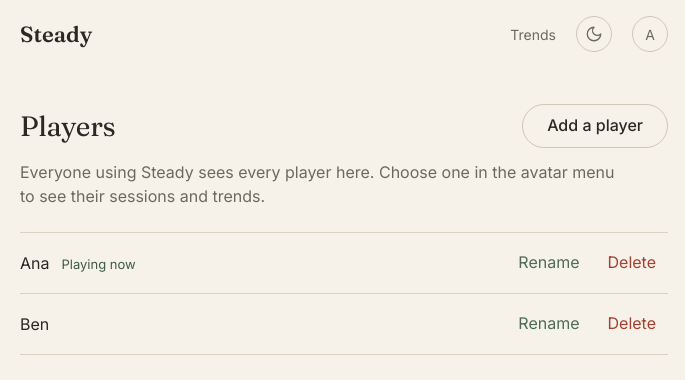
Player names on the server (Spec 013) › renames on the server with that player’s own token, and shows the server’s name
The width and height of the screenshot is (685, 380).
Click the button with aria-label "Rename Ben" at (549, 324), box [506,302,592,346]
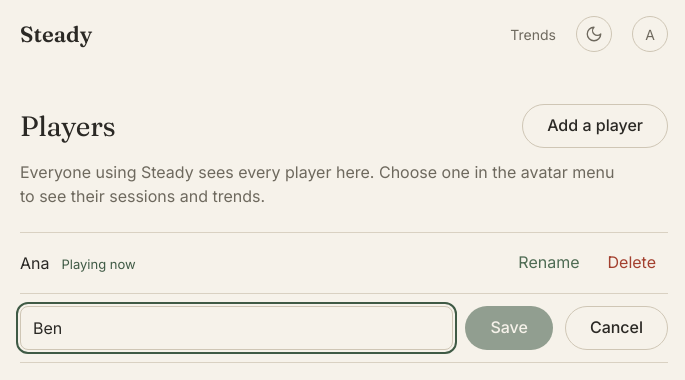
Replace the text in the field named "name" with "  Benji " at (237, 328), box [20,306,453,350]
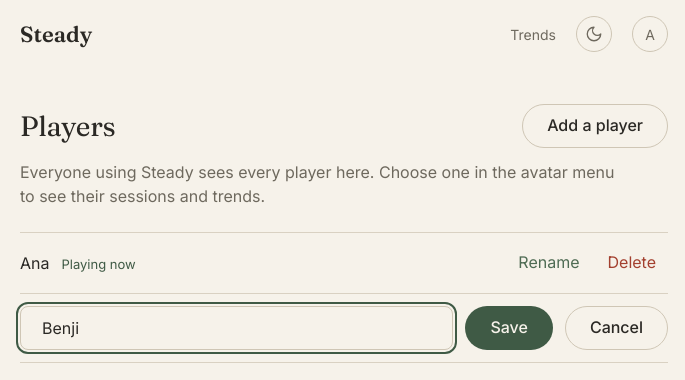
Click the button "Save" at (509, 328), box [465,306,553,350]
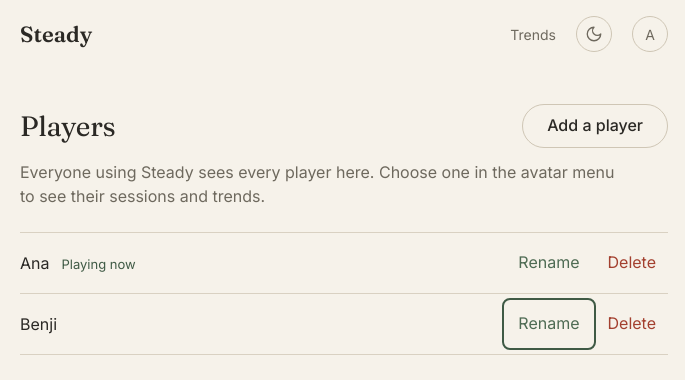
Expected: the text "Benji" is shown, [20,312,57,336]
